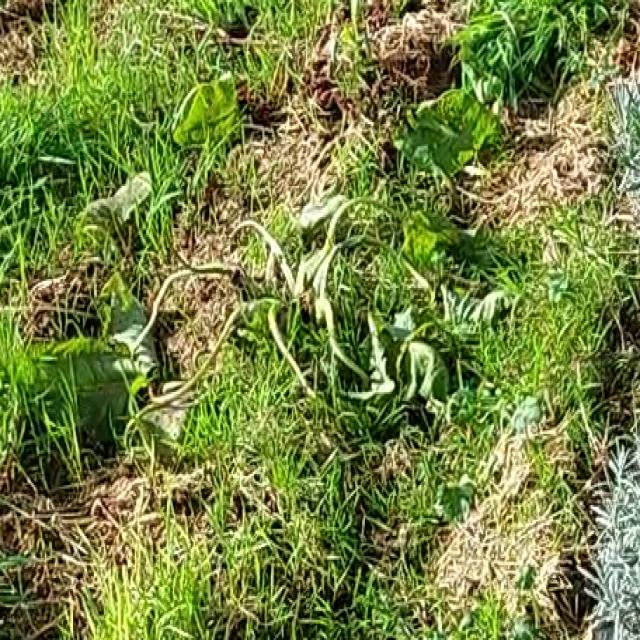organic waste: (51, 40, 524, 449)
